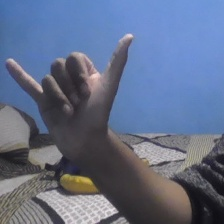Y: (3, 31, 137, 159)
